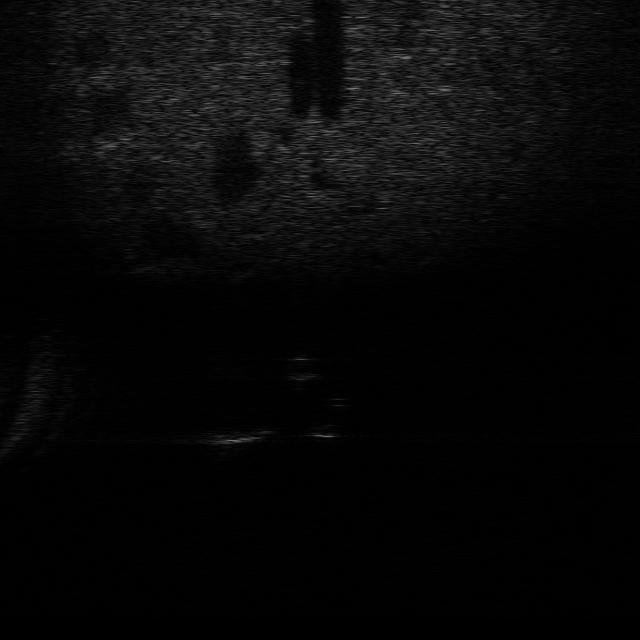ball: (272, 350, 328, 388)
square cage: (195, 420, 285, 460)
tyre: (298, 394, 362, 449)
